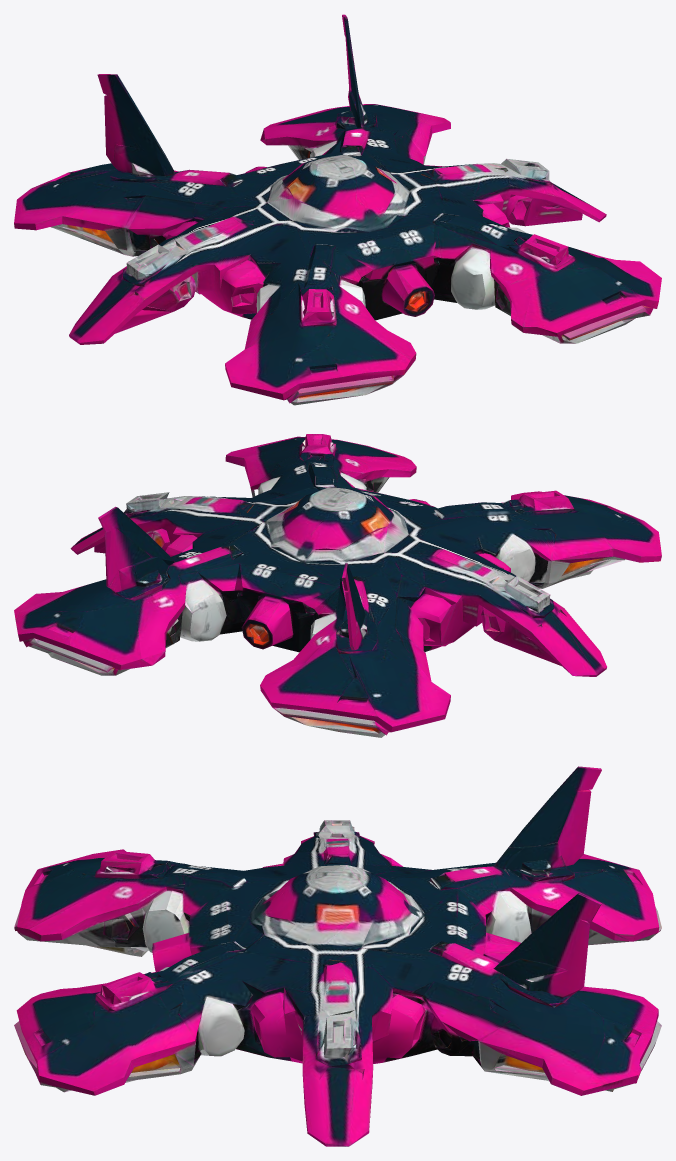
File: nation-n-fortress.glb
The picture shows the model from 3 angles, top to bottom: view 1: azimuth 30°, elevation 25°; view 2: azimuth 150°, elevation 25°; view 3: azimuth 270°, elevation 25°; orthographic projection. The views are drawn at different scales.
Size of the model in its own units: 1.89 by 0.5528 by 1.79.
1 material, 1 textured.
